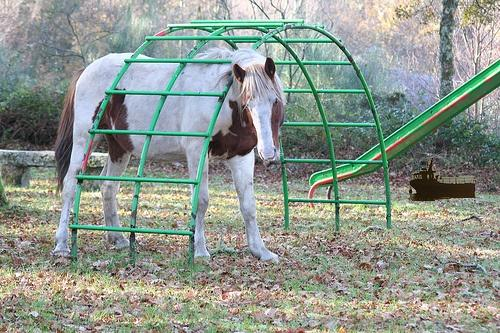tampered: (410, 159, 475, 201)
